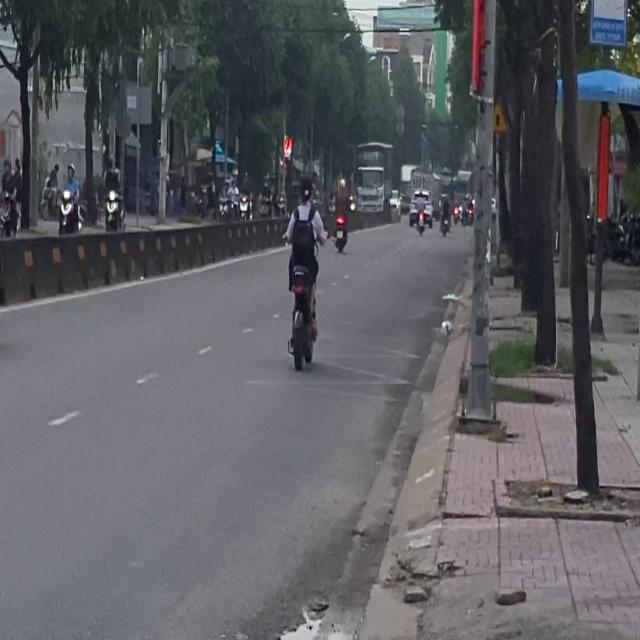licenseplate: (278, 174, 329, 370)
motorcyclist: (297, 176, 313, 204)
